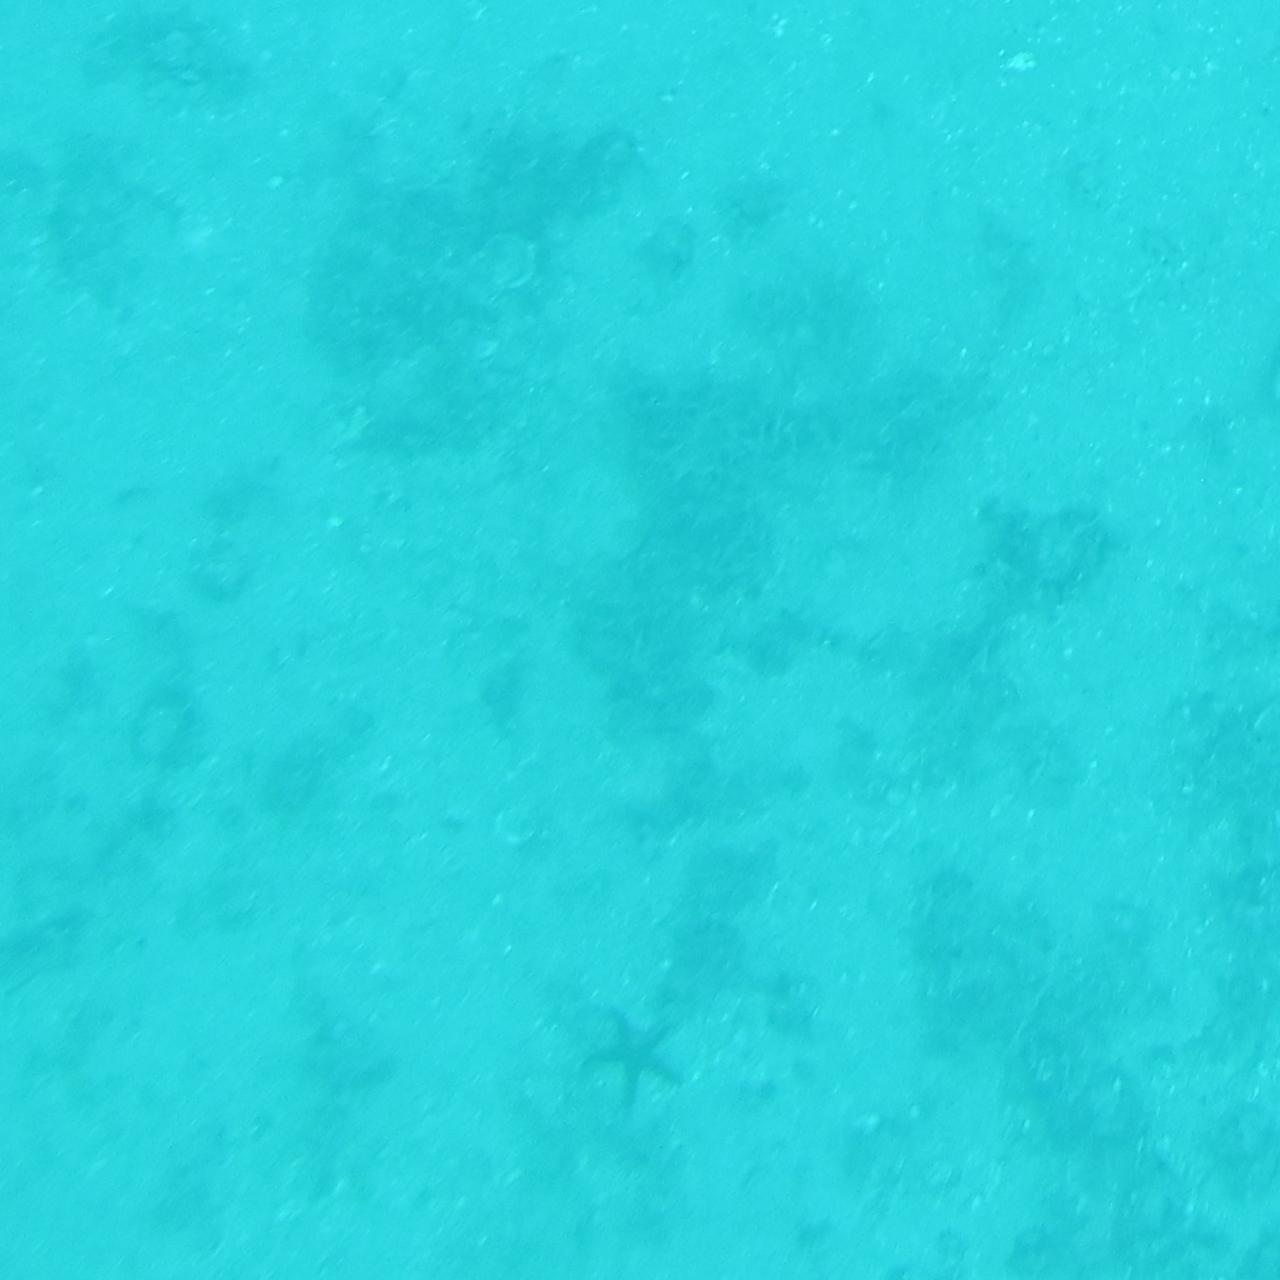Asteroidea: (572, 998, 708, 1121)
